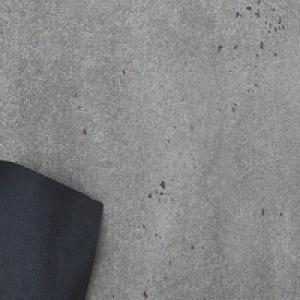PaintChip: (0, 157, 105, 300)
